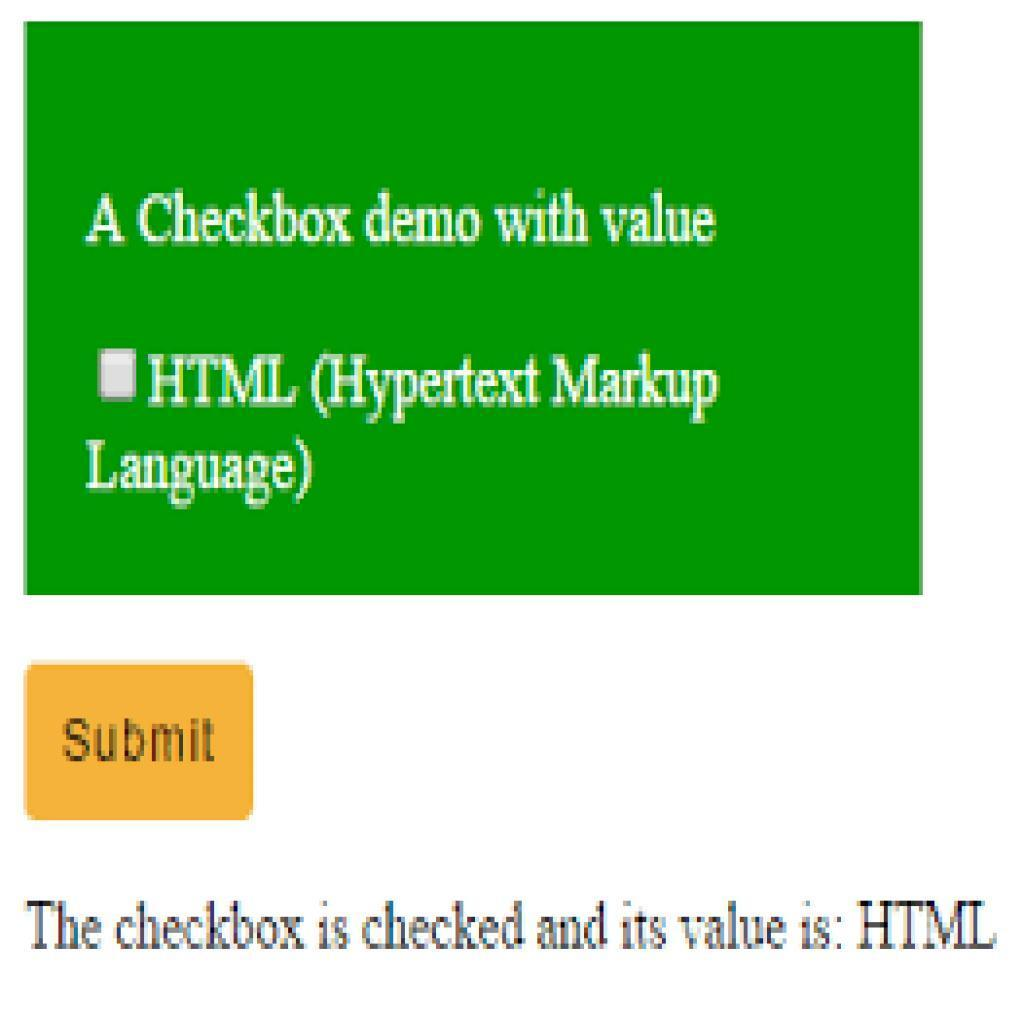button: (26, 664, 255, 823)
checkbox: (99, 350, 137, 402)
